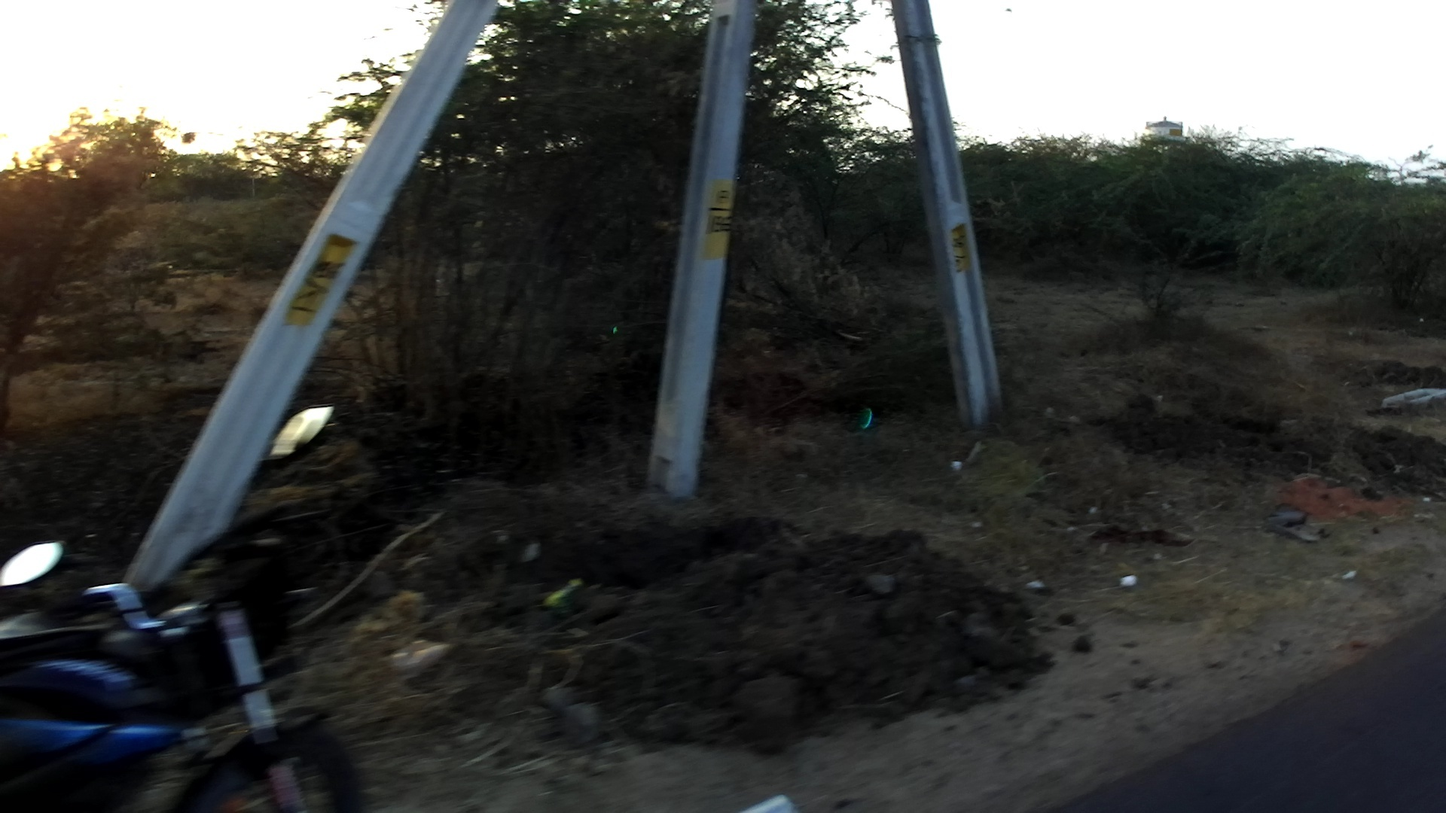motorcycle: (1, 405, 362, 813)
